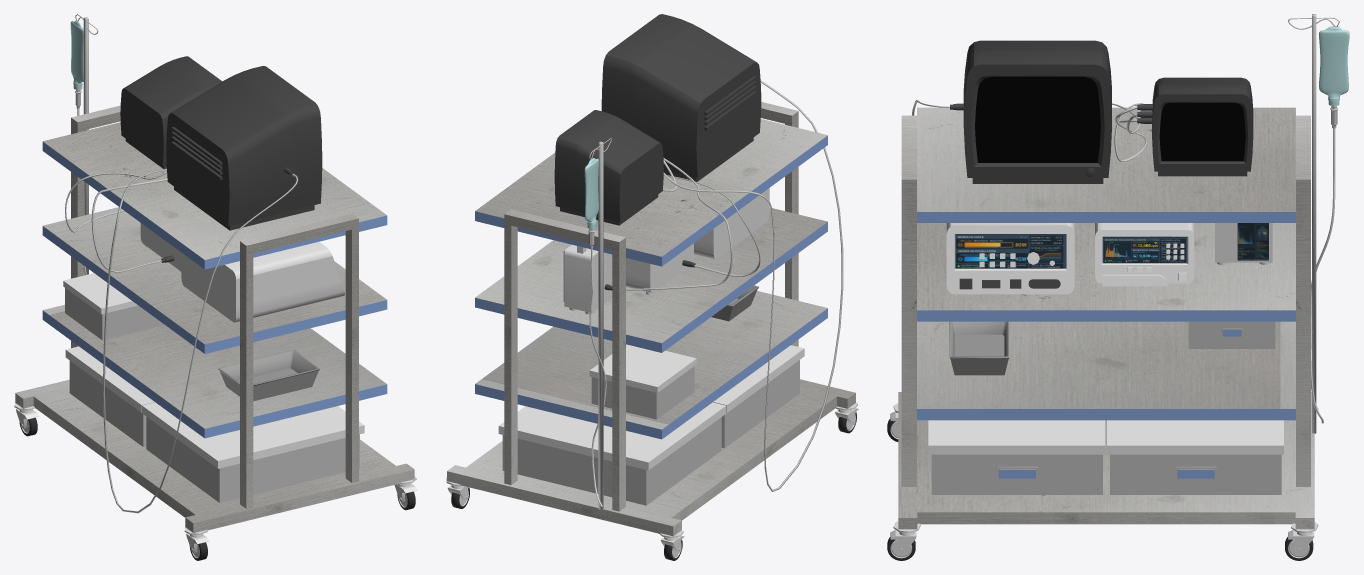
The model's file is Carro.fbx.
3 views of the same model, side by side, from view 1: azimuth 30°, elevation 25°; view 2: azimuth 150°, elevation 25°; view 3: azimuth 270°, elevation 25° (orthographic). The views are drawn at different scales.
Visible parts, largest first — view 1: Carro; view 2: Carro; view 3: Carro.
Part boxes in pixels (box(x1,y1,x2,y2)): Carro: box(14, 14, 417, 560); Carro: box(446, 14, 858, 560); Carro: box(887, 14, 1349, 560).
Bounding box in the file's own units: 88.87 × 133 × 148.
Materials: 16 (4 with a texture image).
